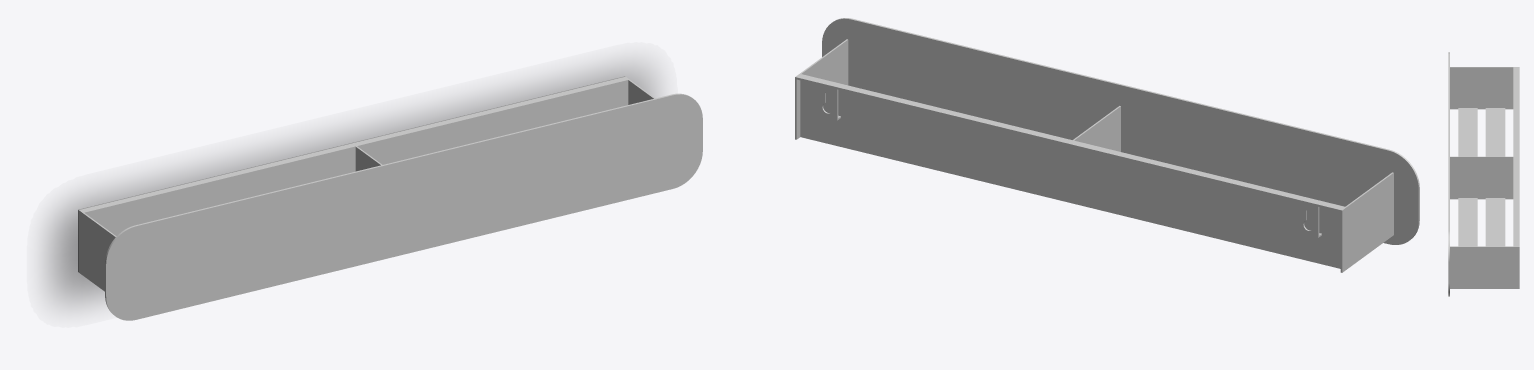
File: radius-mono.770cd75bd7.ar.glb
3 views of the same model, side by side, from view 1: azimuth 30°, elevation 25°; view 2: azimuth 150°, elevation 25°; view 3: azimuth 270°, elevation 25° (orthographic). The views are drawn at different scales.
Parts seen in each view (by area): view 1: NAUO1, object 2; view 2: NAUO1; view 3: NAUO1.
Boxes of the visible parts, x1,y1,x2,y2 form: NAUO1: [78, 76, 702, 320]; object 2: [45, 64, 657, 305]; NAUO1: [795, 18, 1419, 272]; NAUO1: [1448, 52, 1519, 296].
Bounding box in the file's own units: 0.68 × 0.17 × 0.092.
2 materials, 1 textured.
